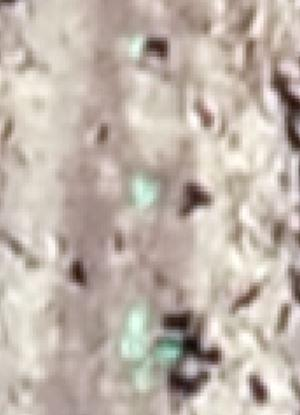cotton: (133, 180, 156, 206), (137, 369, 159, 394), (128, 306, 148, 332), (126, 343, 147, 366), (160, 339, 179, 362), (130, 34, 144, 56)
